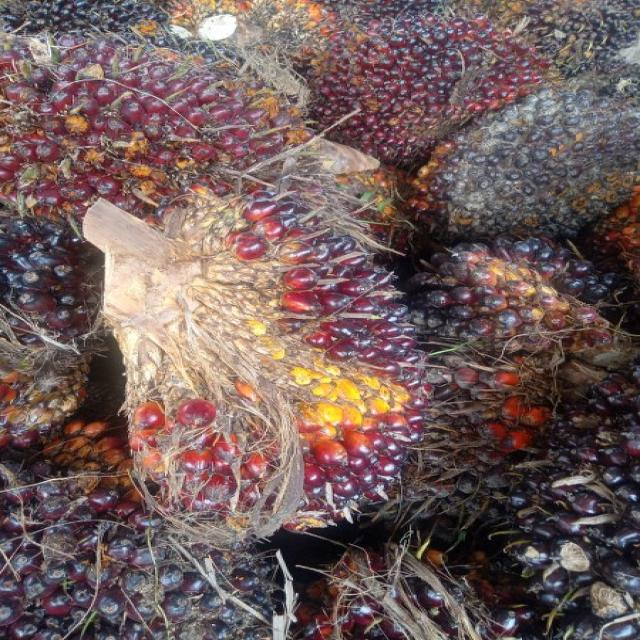fraksi 00: (438, 92, 638, 243)
fraksi 1: (66, 186, 442, 523), (328, 16, 540, 150)
